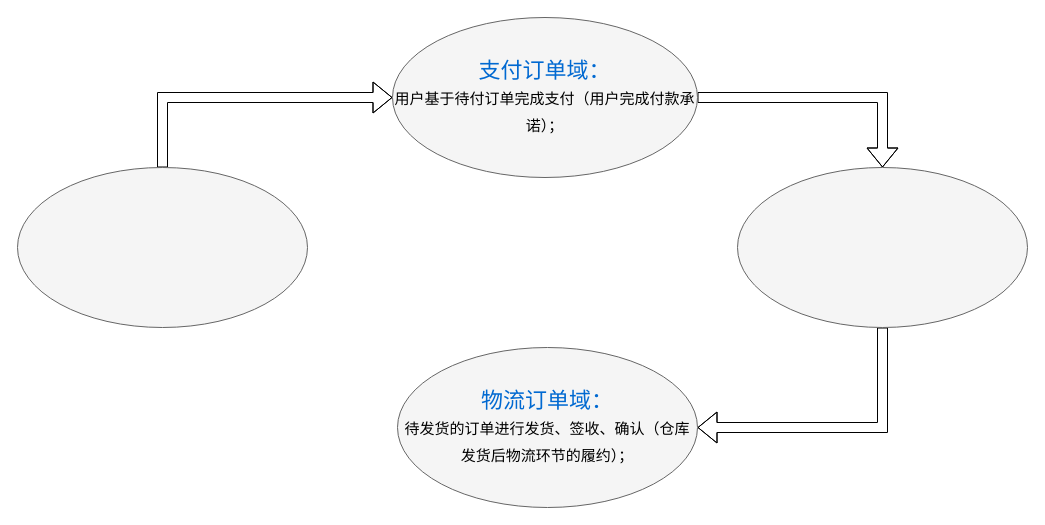
This 1045x525 diagram has some shape labels left out. Here are the shapes that lost their labels. From the top down, the centre of each, then its label:
At pixel 162 247: "营销订单域： 解决商品在特定营销规则下能以何种方式完成下单并享受优惠（用户表达购买意向）；".
At pixel 882 247: "发货订单域： 已支付的订单基于规则从特定的仓库进行发货（商户向仓库发起发货请求）；".
